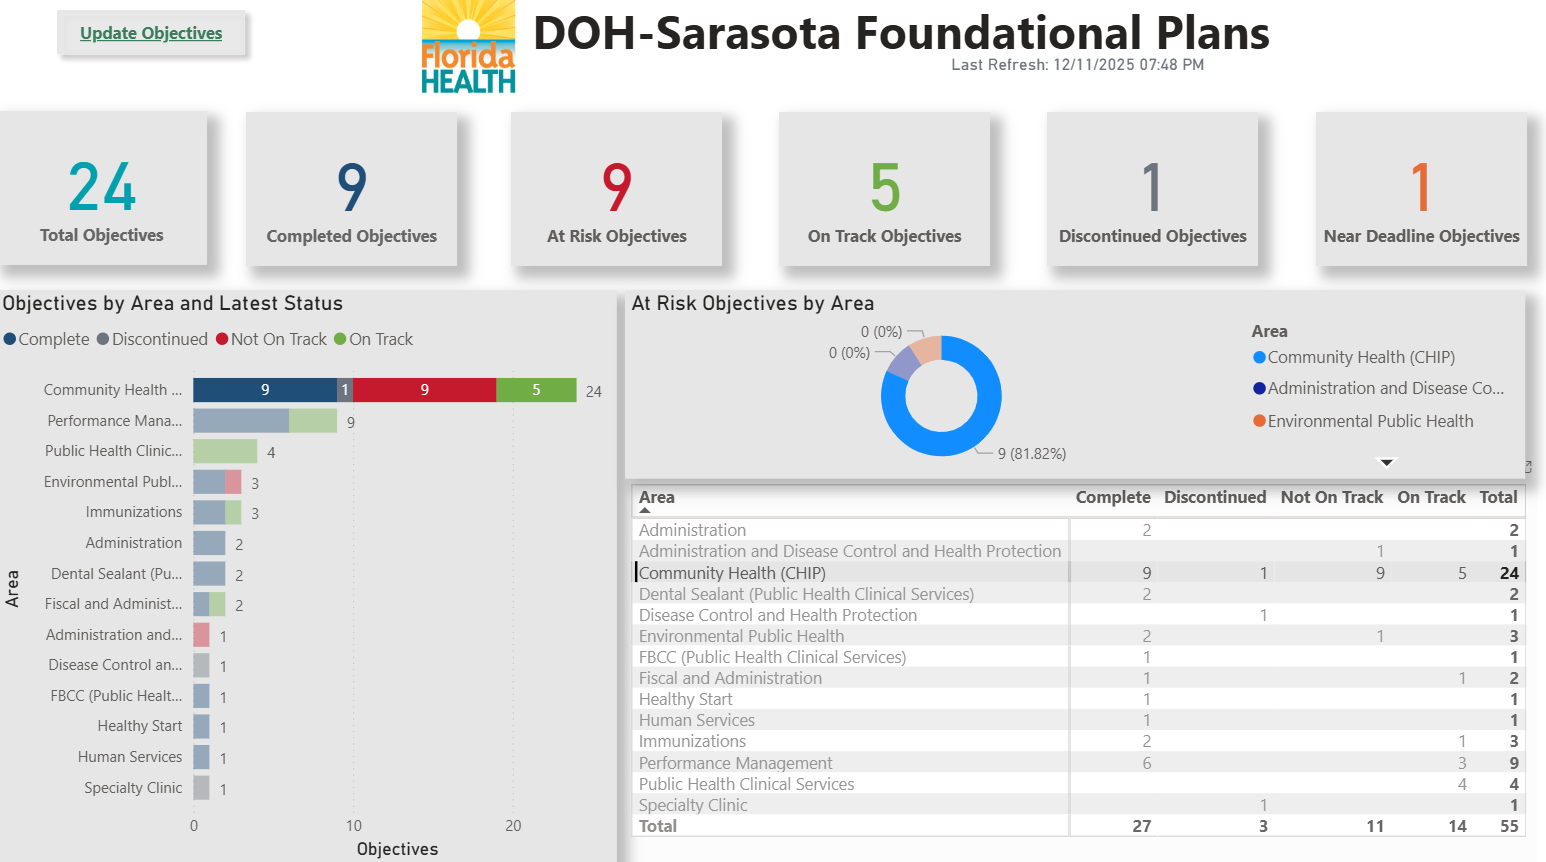

The page's visual inventory and layout, read from the dashboard file:
{"tool":"powerbi","page":{"name":"Page 1","canvas":[1280,720],"ordinal":0},"visuals":[{"type":"card","fields":{"Values":["Area Mapping.Total Objectives"]},"box":[9.7,112.8,170,124.5],"z":0},{"type":"card","fields":{"Values":["Unified data.Completed Objectives"]},"box":[211.1,113.8,170.2,124],"z":1000},{"type":"card","fields":{"Values":["Unified data.At Risk Objectives"]},"box":[424.1,113.8,170.2,124],"z":2000},{"type":"card","fields":{"Values":["Unified data.On Track Objectives"]},"box":[640,113.8,170,124],"z":3000},{"type":"card","fields":{"Values":["Unified data.Discontinued Objectives"]},"box":[855.9,113.8,170,124],"z":4000},{"type":"textbox","box":[10,570,280,150],"z":5000},{"type":"card","fields":{"Values":["Unified data.Near Deadline Objectives"]},"box":[1072.8,113.8,170,124],"z":6000},{"type":"barChart","fields":{"Category":["Unified data.Area"],"Y":["CountNonNull(Unified data.Objectives)"],"Series":["Unified data.Latest Status.1"]},"box":[9.7,256.8,499.9,463],"z":7000},{"type":"pivotTable","fields":{"Rows":["Unified data.Area"],"Columns":["Unified data.Latest Status.1"],"Values":["CountNonNull(Unified data.Objectives)"]},"box":[516.5,408.5,735.3,311.2],"z":8000},{"type":"donutChart","fields":{"Y":["Unified data.At Risk Objectives (Not On Track Status)"],"Category":["Unified data.Area"]},"box":[516.5,256.8,724.6,151.7],"z":9000},{"type":"image","box":[332.6,0,114.8,109.9],"z":10000},{"type":"textbox","box":[436.7,1,711,120.6],"z":11000},{"type":"card","fields":{"Values":["Unified data.Last Refresh"]},"box":[731.4,62.2,299.6,26.3],"z":12000},{"type":"actionButton","box":[49.6,22.4,169.2,53.5],"z":13000}]}

Visuals, with their boxes in screenshot pixels (x1, y1, x2, y2), scaled from the page's 1280x720 canvas onto the 1546x862 screenshot:
card - Area Mapping.Total Objectives: crop(12, 135, 217, 284)
card - Unified data.Completed Objectives: crop(255, 136, 461, 285)
card - Unified data.At Risk Objectives: crop(512, 136, 718, 285)
card - Unified data.On Track Objectives: crop(773, 136, 978, 285)
card - Unified data.Discontinued Objectives: crop(1034, 136, 1239, 285)
textbox: crop(12, 682, 350, 861)
card - Unified data.Near Deadline Objectives: crop(1296, 136, 1501, 285)
barChart - Unified data.Area x CountNonNull(Unified data.Objectives): crop(12, 307, 616, 861)
pivotTable - Unified data.Area x Unified data.Latest Status.1: crop(624, 489, 1512, 861)
donutChart - Unified data.At Risk Objectives (Not On Track Status) x Unified data.Area: crop(624, 307, 1499, 489)
image: crop(402, 0, 540, 132)
textbox: crop(527, 1, 1386, 146)
card - Unified data.Last Refresh: crop(883, 74, 1245, 106)
actionButton: crop(60, 27, 264, 91)
